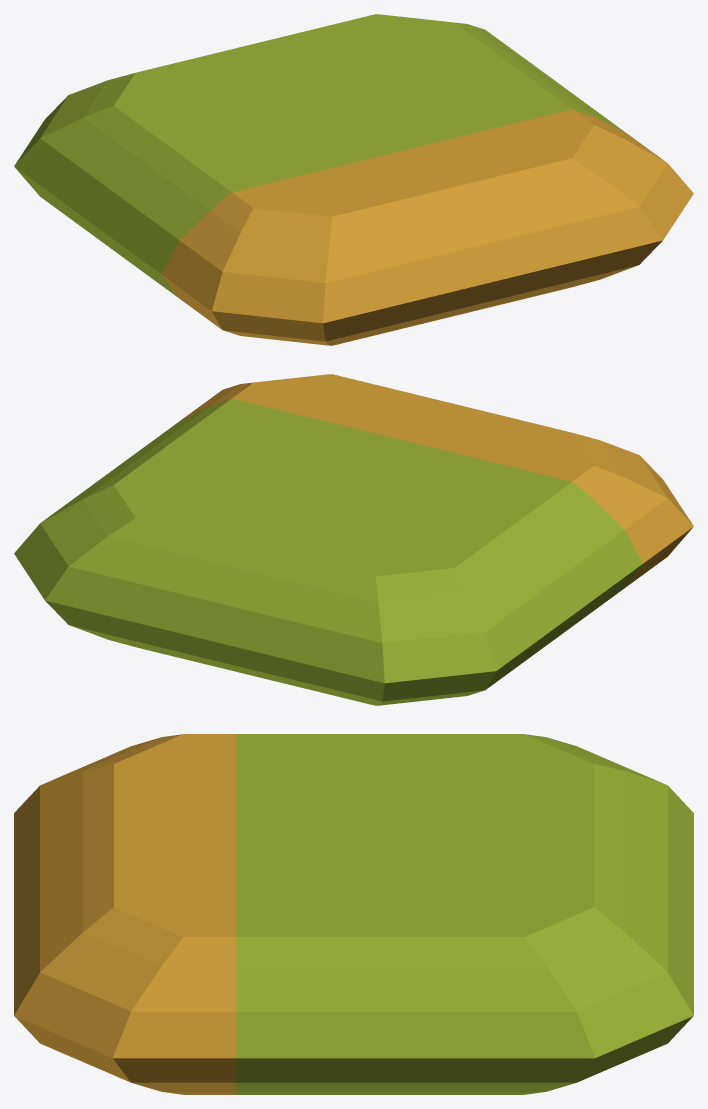
The model's file is vGem4_New.fbx.
The picture shows the model from 3 angles, top to bottom: view 1: azimuth 30°, elevation 25°; view 2: azimuth 150°, elevation 25°; view 3: azimuth 270°, elevation 25°; orthographic projection. The views are drawn at different scales.
Visible parts, largest first — view 1: pPlane10; view 2: pPlane10; view 3: pPlane10.
Part boxes in pixels (x1,y1,x2,y2): pPlane10: (14,14,693,345); pPlane10: (14,374,693,705); pPlane10: (14,734,693,1094).
Bounding box in the file's own units: 0.8941 × 0.2288 × 0.8941.
